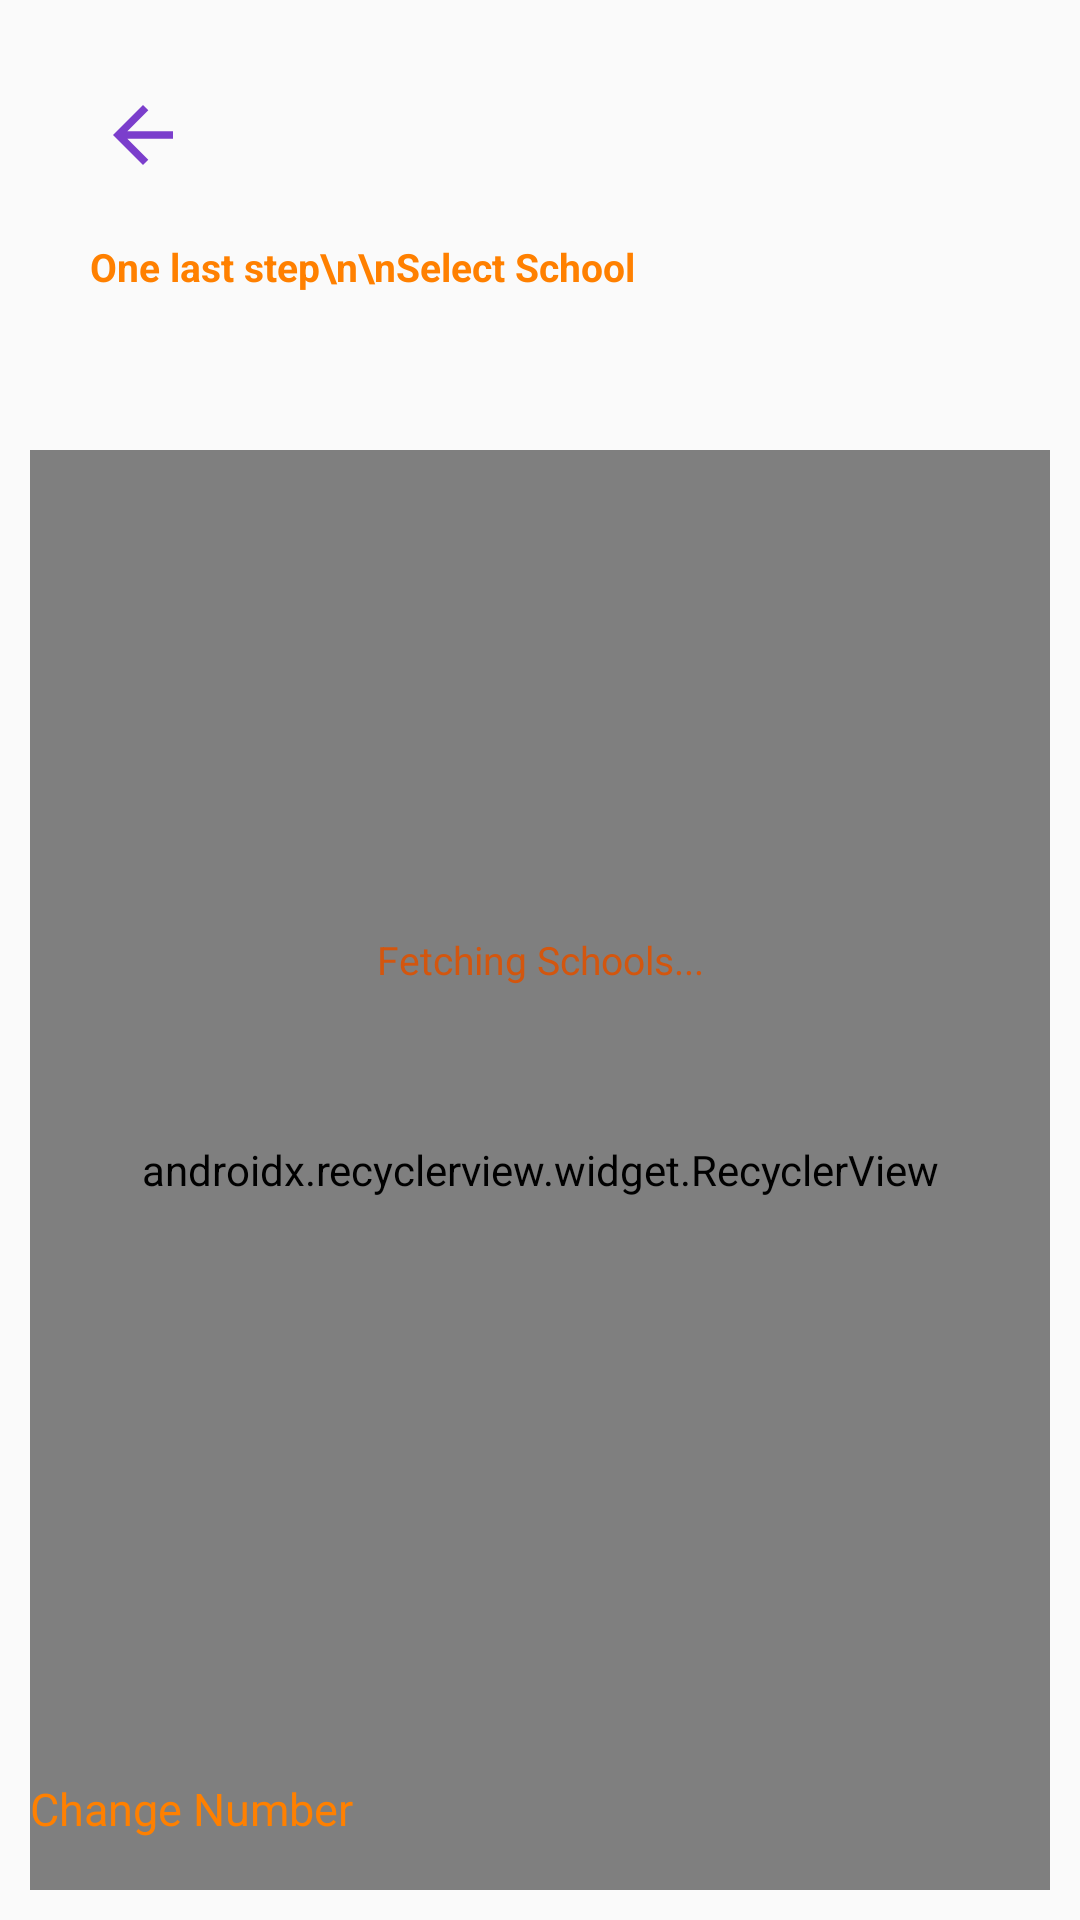

Icon bounding boxes for this 1080×1920 phone screenshot, format (x1, y1, x2, y2):
back: (113, 105, 173, 165)
